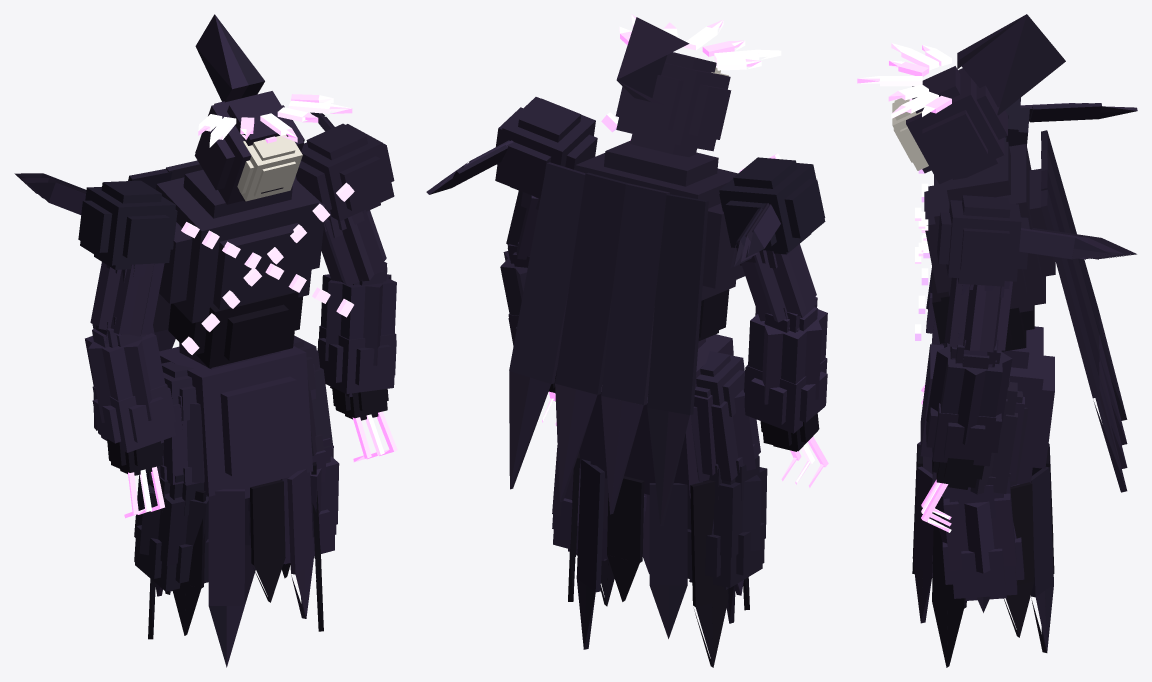
The picture shows the model from 3 angles, left to right: view 1: azimuth 30°, elevation 25°; view 2: azimuth 150°, elevation 25°; view 3: azimuth 270°, elevation 25°; orthographic projection. The views are drawn at different scales.
Visible parts, largest first — view 1: ShadeMaster; view 2: ShadeMaster; view 3: ShadeMaster.
Part boxes in pixels (left/top/right/bottom): ShadeMaster: left=14, top=14, right=397, bottom=667; ShadeMaster: left=426, top=14, right=828, bottom=667; ShadeMaster: left=857, top=14, right=1137, bottom=667.
Bounding box in the file's own units: 0.9215 × 1.76 × 0.7217.
